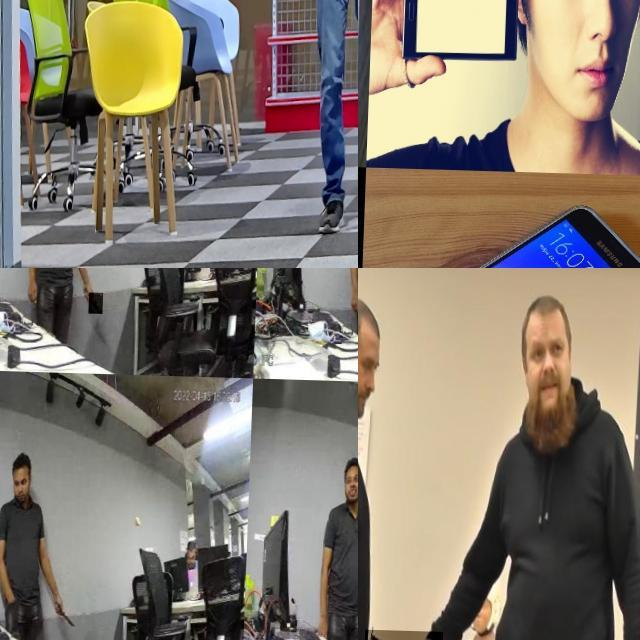-: (57, 603, 82, 631), (90, 291, 104, 313)
gun-knife-thesis - v11 Yolov5 augmented: (309, 0, 358, 34)
